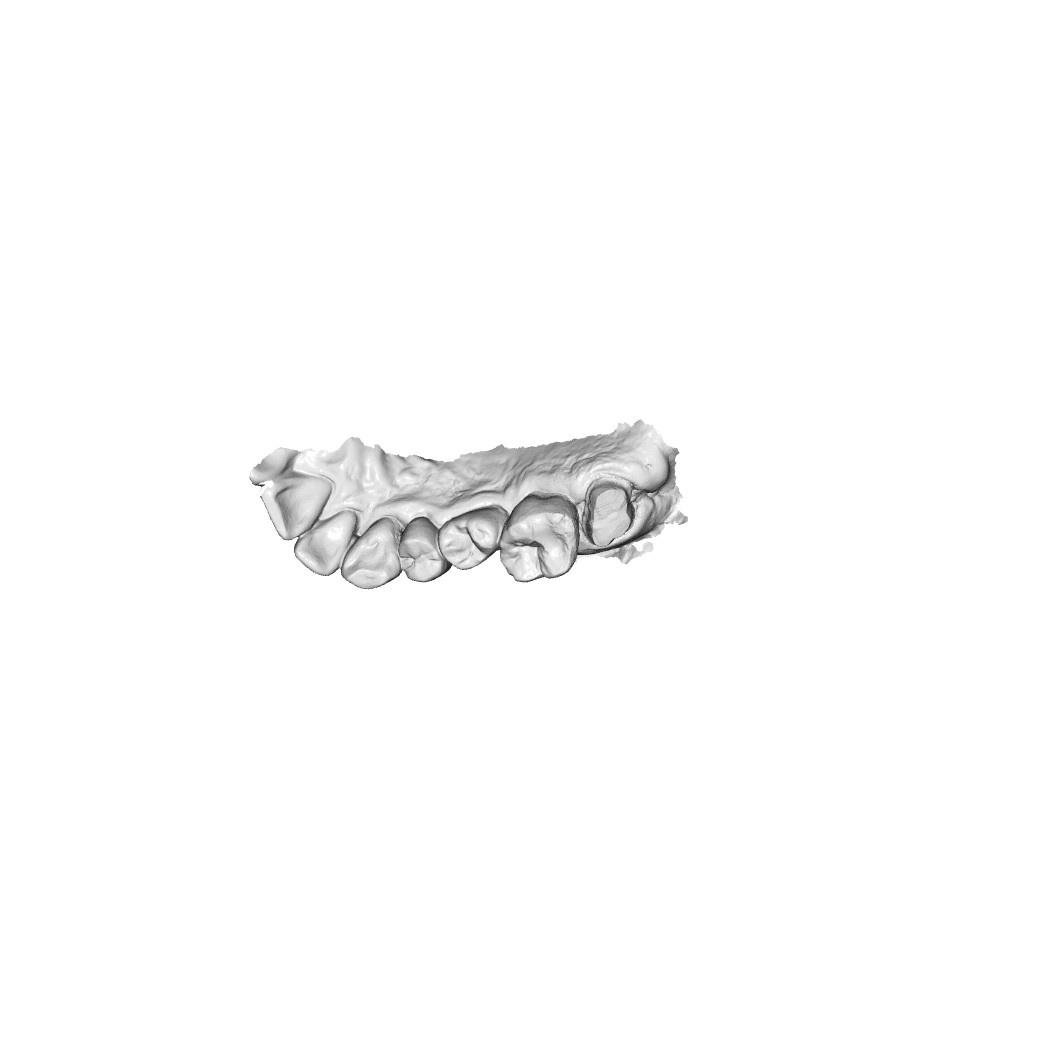canine: (346, 525, 401, 586)
crown: (585, 479, 636, 548)
incisor: (298, 511, 357, 577), (268, 478, 327, 533)
molar: (505, 488, 576, 577)
premolar: (445, 509, 500, 564), (404, 525, 450, 578)
